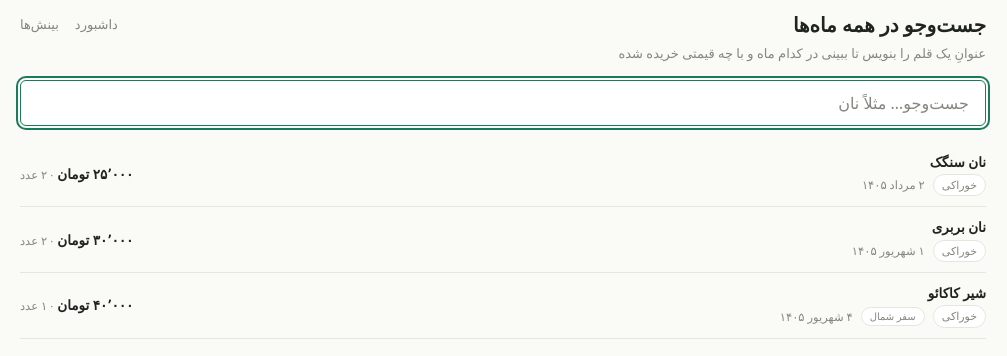
SearchBoard › shows a no-match message instead of an empty row
The image size is (1007, 356).
Type "پسته" into the search field named "جست‌وجوی خرج". click: (503, 102)
box: x1=20 y1=80 x2=986 y2=126
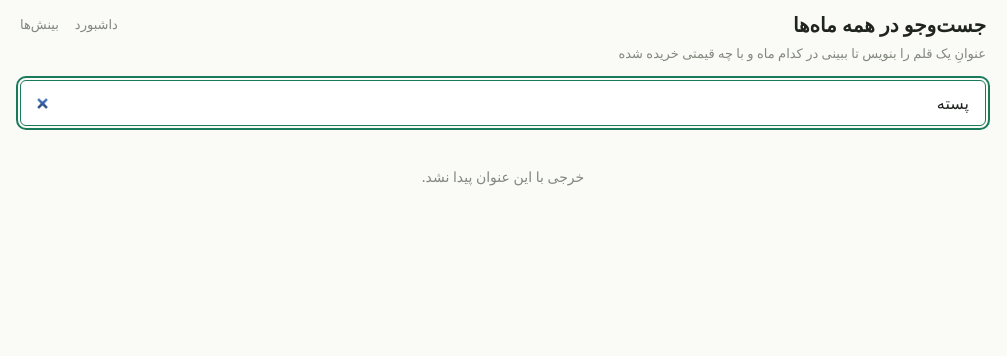
Result: the text "خرجی با این عنوان پیدا نشد." is shown at x1=422 y1=166 x2=584 y2=186
